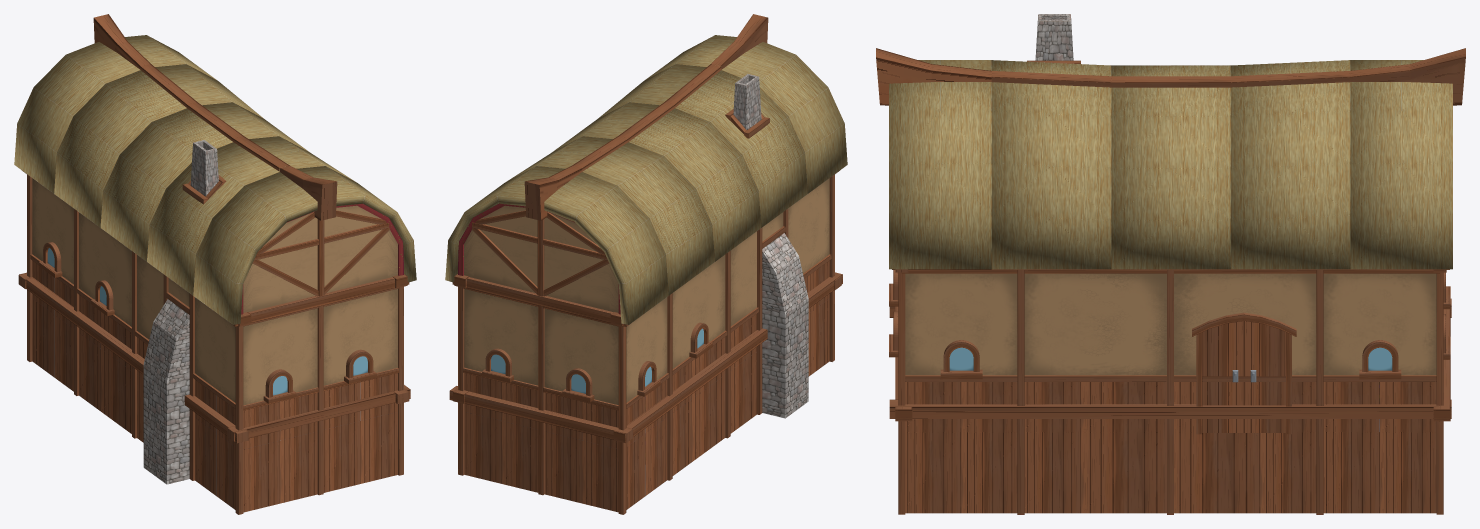
File: house_farm2.glb
3 renders of one model, left to right at view 1: azimuth 30°, elevation 25°; view 2: azimuth 150°, elevation 25°; view 3: azimuth 270°, elevation 25°, orthographic. The views are drawn at different scales.
Visible parts, largest first — view 1: house_farm2_; view 2: house_farm2_; view 3: house_farm2_.
Part boxes in pixels (left/top/right/bottom): house_farm2_: left=14, top=14, right=416, bottom=514; house_farm2_: left=445, top=14, right=847, bottom=514; house_farm2_: left=876, top=14, right=1465, bottom=514.
Bounding box in the file's own units: 9.82 × 15.13 × 19.73.
Materials: 1 (1 with a texture image).
